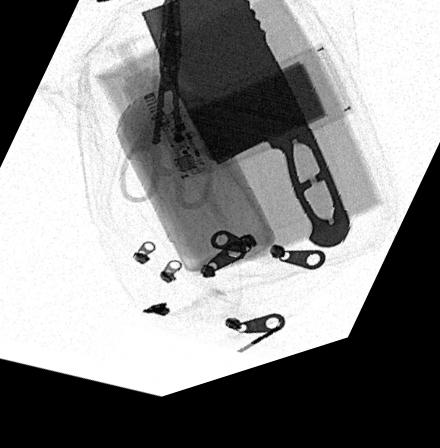Knife: (140, 0, 349, 267)
Powerbank: (130, 64, 356, 197)
Scissors: (118, 0, 217, 217)
